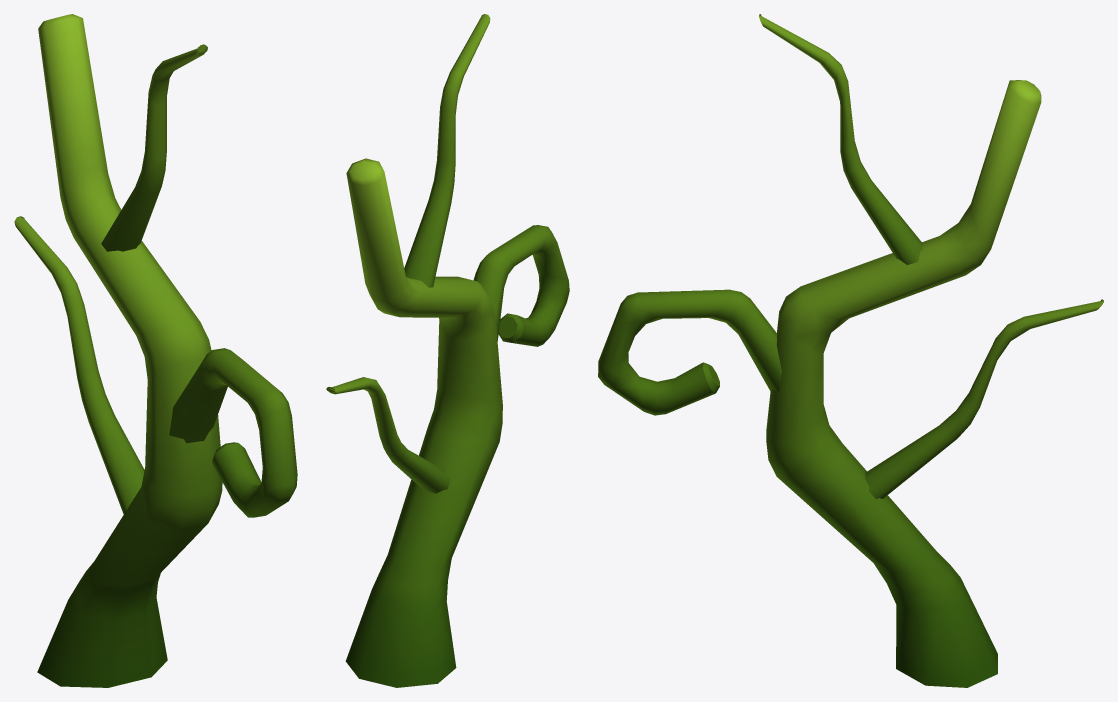
The model's file is Vine_4_3.glb.
The picture shows the model from 3 angles, left to right: view 1: azimuth 30°, elevation 25°; view 2: azimuth 150°, elevation 25°; view 3: azimuth 270°, elevation 25°; orthographic projection. The views are drawn at different scales.
Parts seen in each view (by area): view 1: Vine_4_3; view 2: Vine_4_3; view 3: Vine_4_3.
Part boxes in pixels (x1,y1,x2,y2): Vine_4_3: (14,14,297,687); Vine_4_3: (326,14,569,687); Vine_4_3: (598,14,1103,687).
Size of the model in its own units: 0.1582 by 0.9674 by 0.6831.
Materials: 1 (1 with a texture image).
